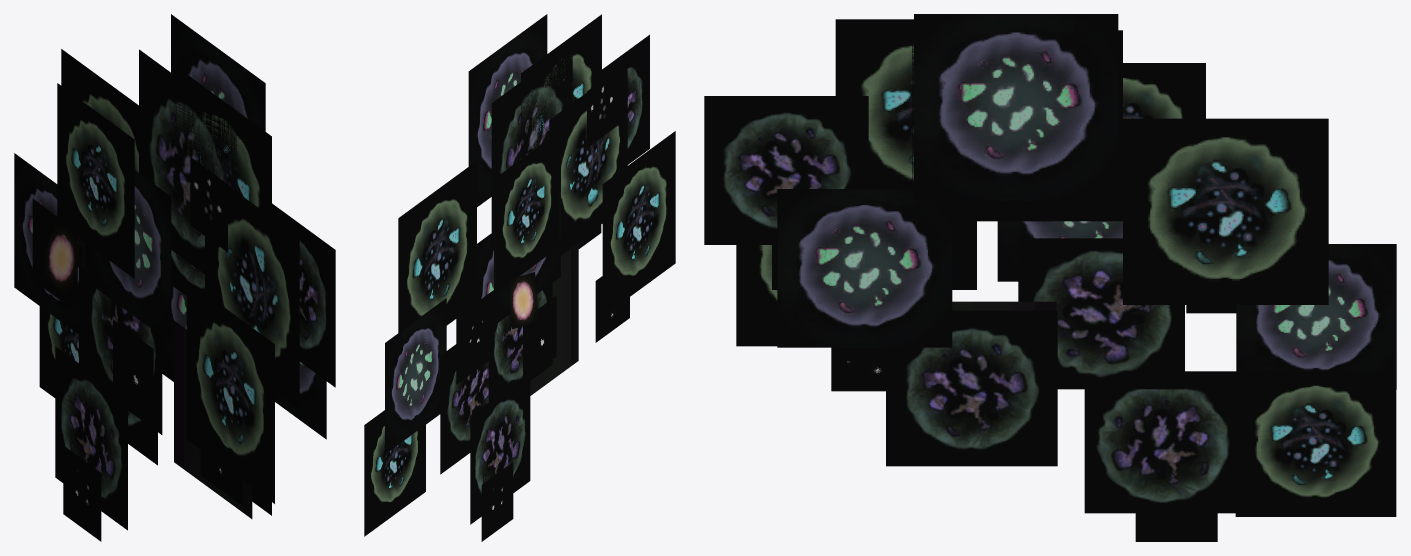
Rendered from bst16.obj.
3 views of the same model, side by side, from view 1: azimuth 30°, elevation 25°; view 2: azimuth 150°, elevation 25°; view 3: azimuth 270°, elevation 25° (orthographic). The views are drawn at different scales.
Parts seen in each view (by area): view 1: BALL090, BALL110, BALL180, BALL030, BALL160, BALL070, BALL080, BALL100, BALL130, BALL040, BALL170, BALL150 (+12 smaller); view 2: BALL150, BALL090, BALL030, BALL110, BALL170, BALL180, BALL160, BALL130, BALL060, BALL080, BALL050, ENERGY0 (+10 smaller); view 3: BALL150, BALL130, BALL010, BALL020, BALL060, BALL160, BALL100, BALL040, BALL170, BALL080, BALL030, BALL180 (+6 smaller).
Part boxes in pixels (x1,y1,x2,y2): BALL090: (186, 280, 274, 503); BALL110: (205, 186, 299, 409); BALL180: (139, 49, 236, 273); BALL030: (57, 83, 134, 278); BALL160: (55, 346, 127, 530); BALL070: (90, 170, 171, 342); BALL080: (174, 65, 271, 240); BALL100: (272, 203, 335, 387); BALL130: (171, 14, 265, 131); BALL040: (85, 243, 162, 434); BALL170: (14, 153, 85, 334); BALL150: (61, 49, 138, 172); BALL150: (398, 161, 476, 332); BALL090: (602, 131, 675, 316); BALL030: (495, 131, 559, 292); BALL110: (549, 63, 627, 253); BALL170: (385, 298, 446, 454); BALL180: (491, 44, 572, 249); BALL160: (470, 376, 530, 524); BALL130: (468, 14, 547, 206); BALL060: (364, 410, 425, 536); BALL080: (521, 14, 601, 158); BALL050: (440, 344, 488, 474); ENERGY0: (530, 243, 578, 395); BALL150: (1123, 118, 1328, 304); BALL130: (914, 14, 1118, 199); BALL010: (777, 189, 952, 347); BALL020: (886, 310, 1057, 466); BALL060: (1235, 371, 1396, 516); BALL160: (1084, 371, 1235, 513); BALL100: (704, 96, 868, 244); BALL040: (1018, 238, 1184, 389); BALL170: (1236, 244, 1396, 389); BALL080: (835, 19, 1046, 210); BALL030: (1123, 63, 1205, 118); BALL180: (912, 30, 1122, 221).
Bounding box in the file's own units: 42.59 × 223 × 250.
Materials: 25 (25 with a texture image).
